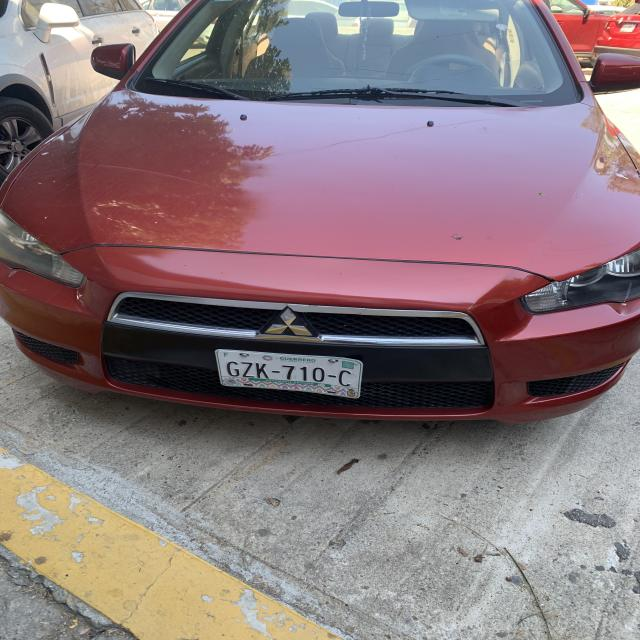placa: (216, 357, 376, 388)
